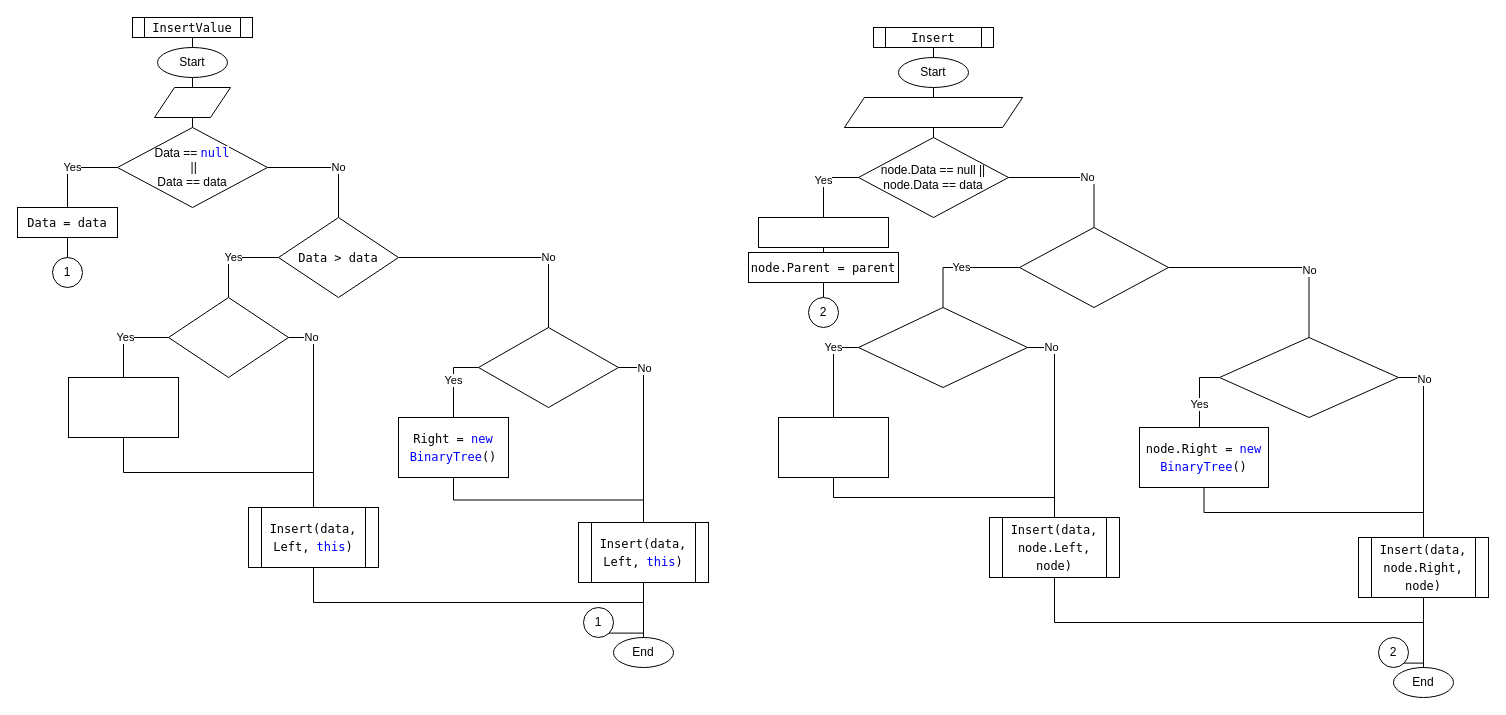
Some shapes in this 1506 by 715 pixel diagram are drawn without their labels. Here are the shapes that lost their labels. From the top down, the box of each, then its label:
(154, 86, 230, 118): data
(843, 96, 1023, 128): data, node, parent
(758, 216, 888, 248): node.Data = data
(1018, 226, 1168, 308): node.Data > data
(168, 296, 288, 378): Left == null
(858, 306, 1028, 388): node.Left == null
(478, 326, 618, 408): Right == null
(1218, 336, 1398, 418): node.Right == null
(68, 376, 178, 438): Left = new BinaryTree ()
(778, 416, 888, 478): node.Left = new BinaryTree ()
